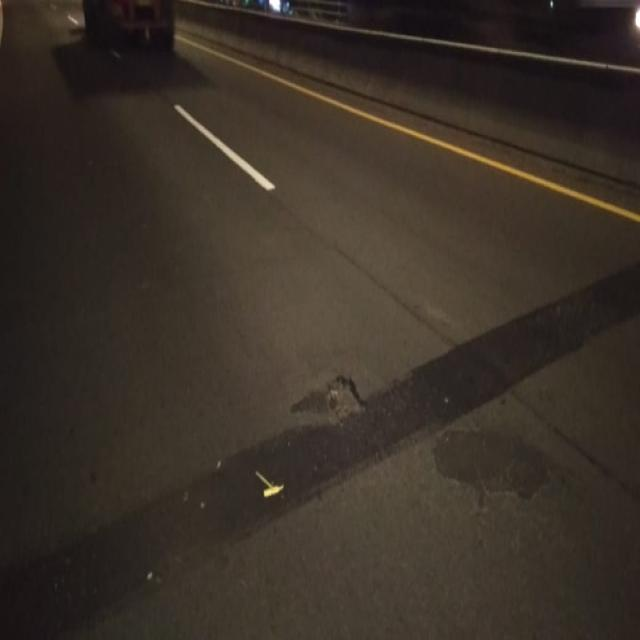Buraco: (320, 373, 373, 432)
